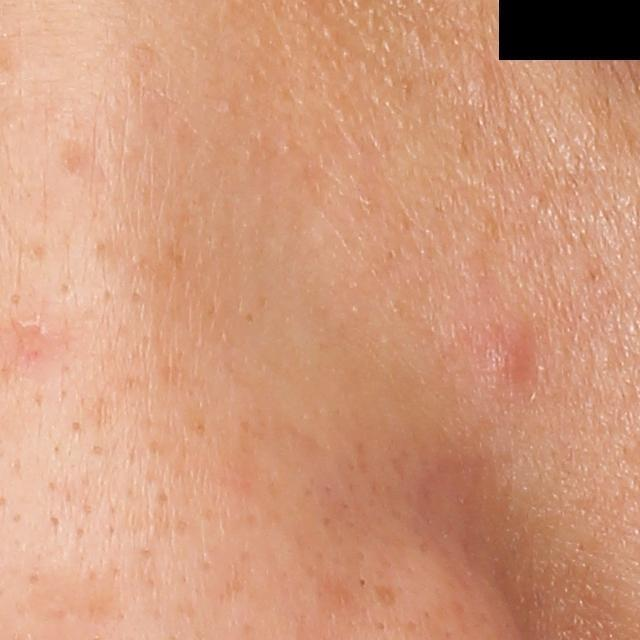papule: (465, 310, 538, 395)
